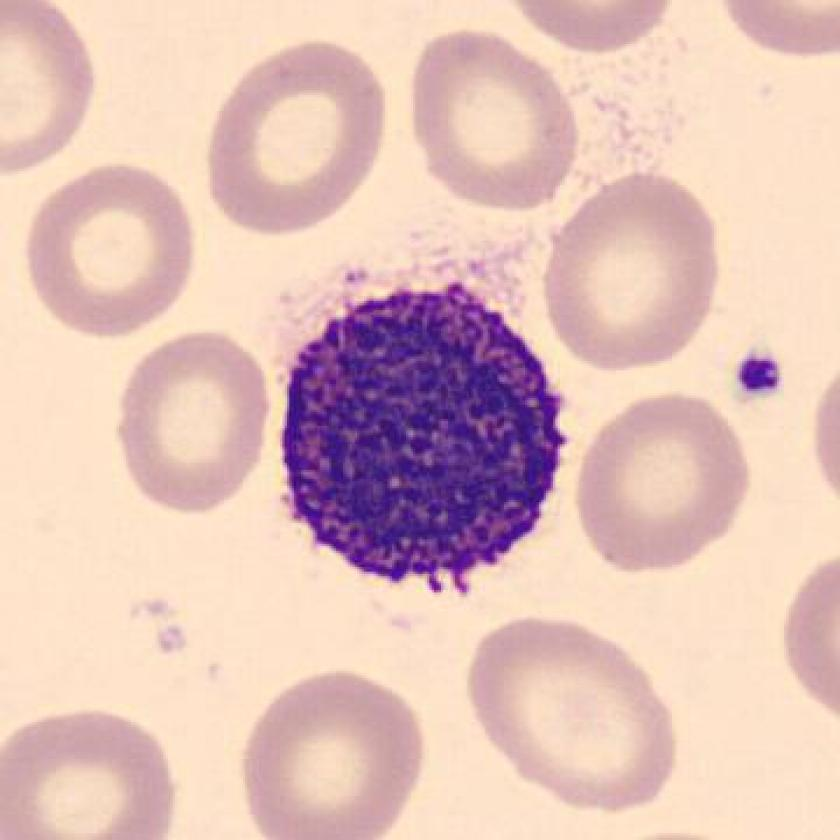basophil: (267, 276, 580, 603)
